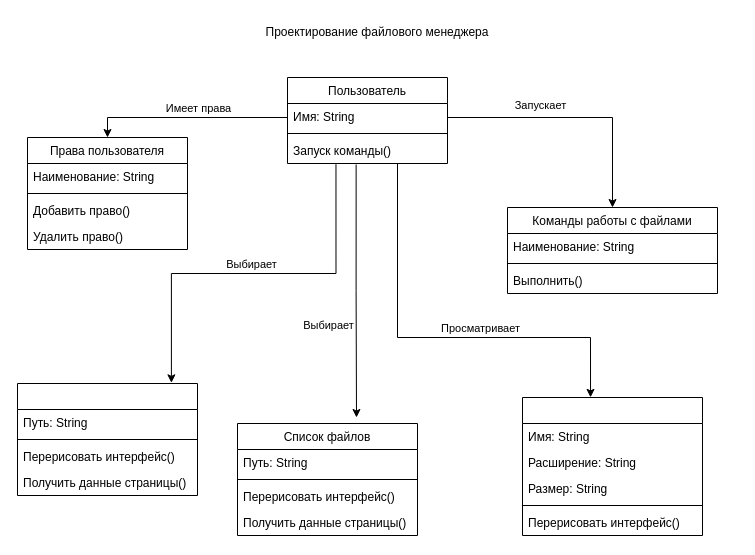
Image size: 755x555. Some labels were removed from this diagram. Here are the shapes that lost their labels. From the top down, the box of each, then its label:
(16, 382, 198, 496): Дерево каталогов
(522, 396, 702, 536): Свойства файла
